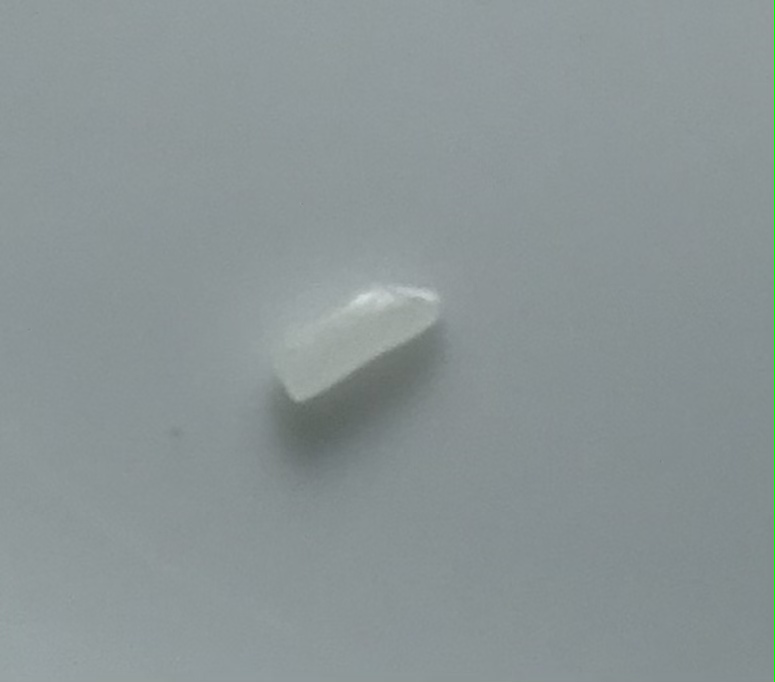Gao Tam: (270, 282, 445, 402)
